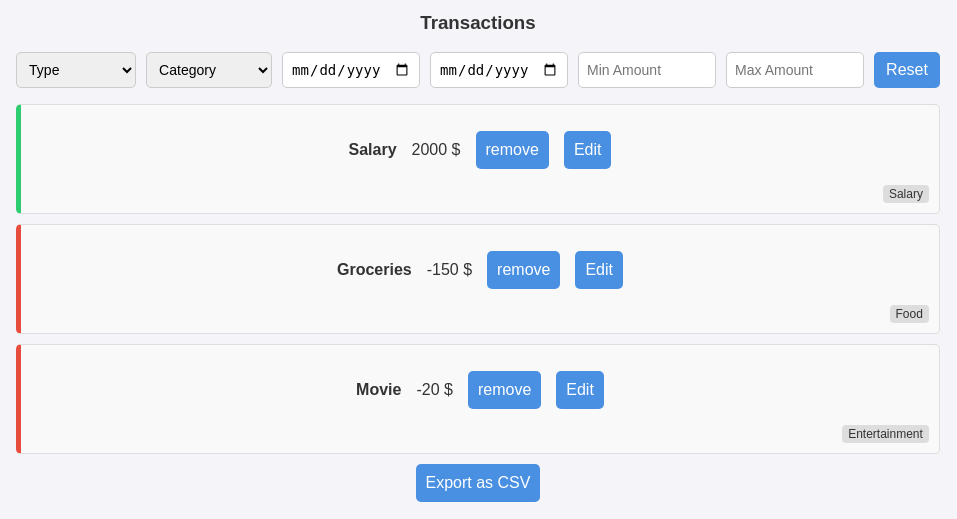
Scenario: TransactionList integration › filters transactions by category (food)
Select "Food" in the 2nd dropdown showing "Category" at (209, 70), box [146, 52, 272, 88]
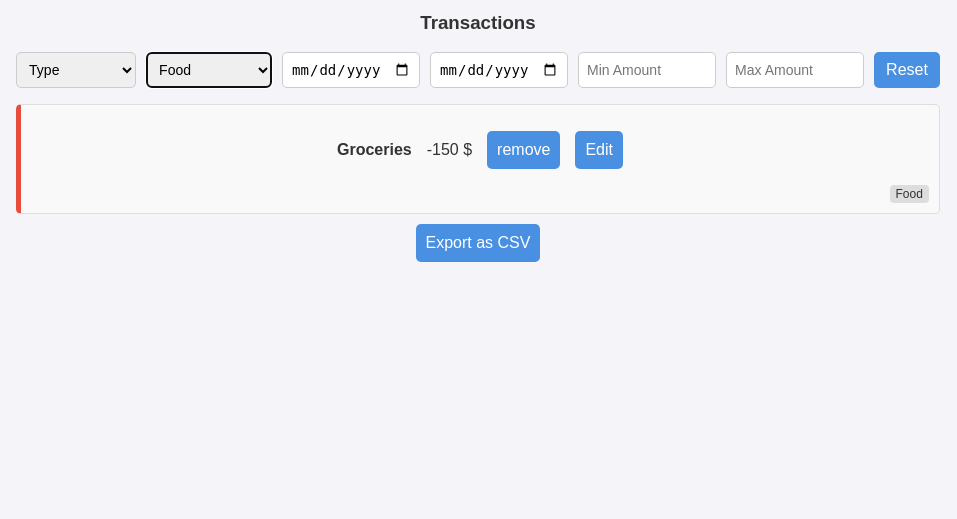
expect the list shows "Groceries": met, box [337, 141, 412, 158]
expect the list no longer shows "Salary": met, box [16, 104, 940, 214]
expect the list no longer shows "Movie": met, box [16, 104, 940, 214]
